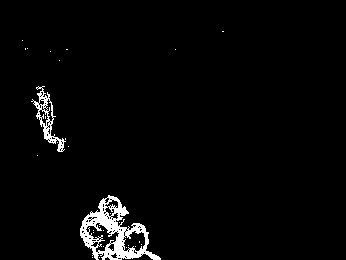person: (79, 193, 129, 260), (32, 84, 69, 157)
